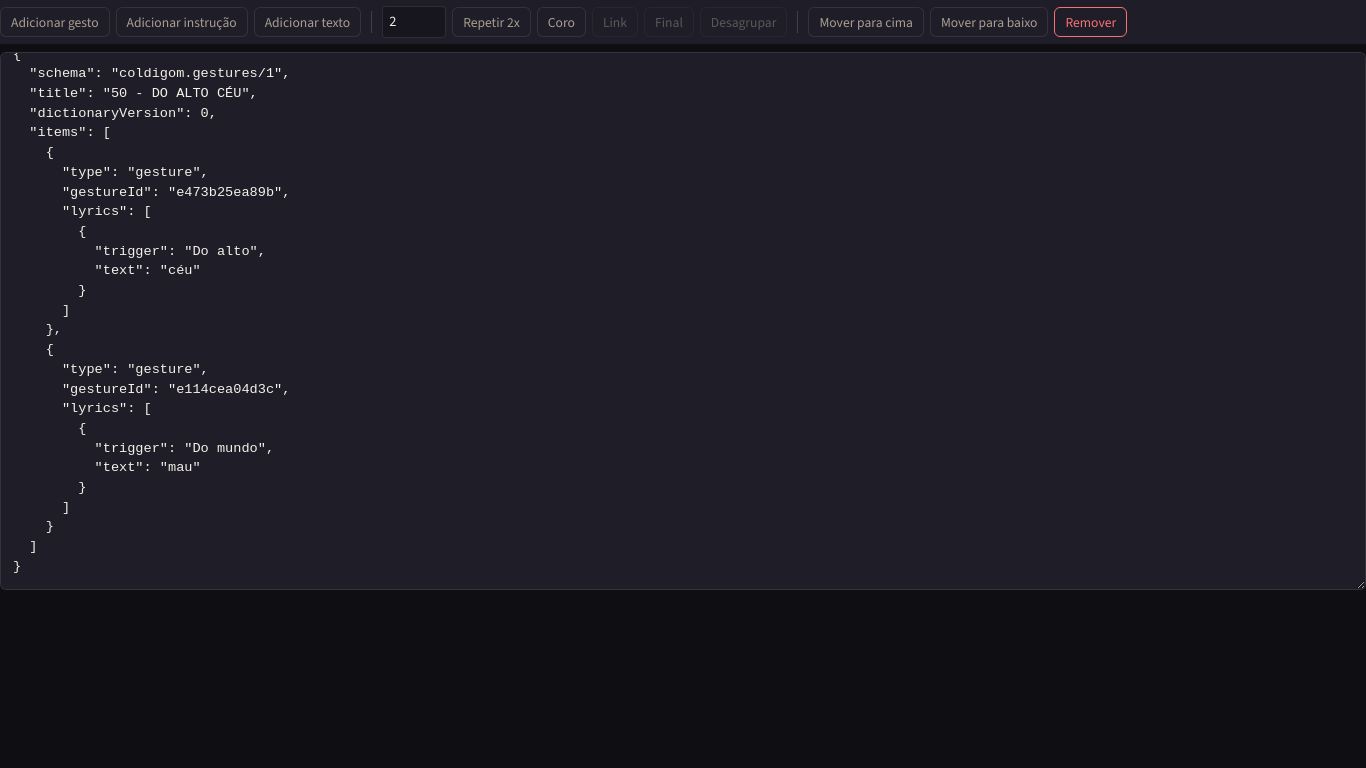
GesturesRawEditor › abre seletor de gestos ao clicar em "Adicionar gesto" e insere no documento
Click the button "Adicionar gesto": point(55, 22) left=0, top=7, right=110, bottom=37
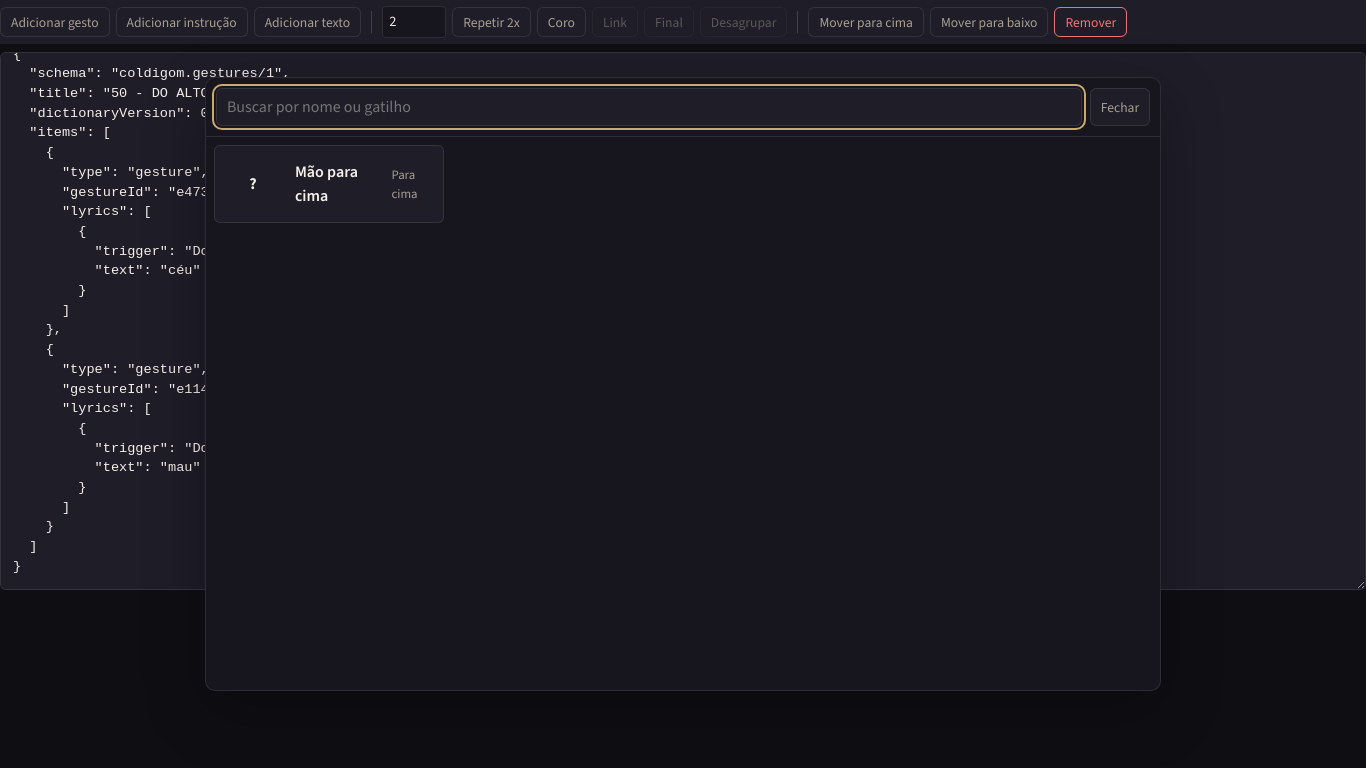
Expected: the dialog named "Escolher gesto" is shown, left=205, top=77, right=1161, bottom=691
Click the button "? Mão para cima Para cima": point(329, 184) left=214, top=145, right=444, bottom=223
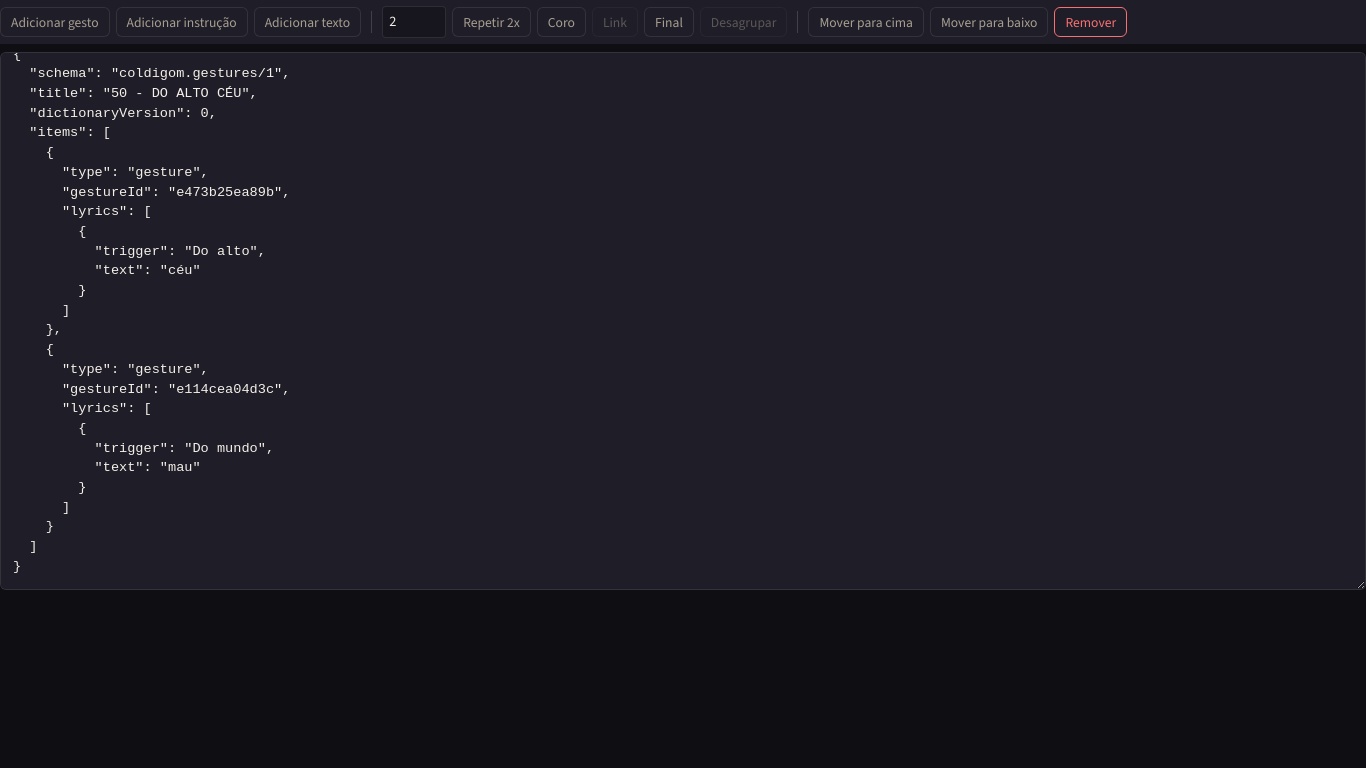
Expected: the dialog is gone
